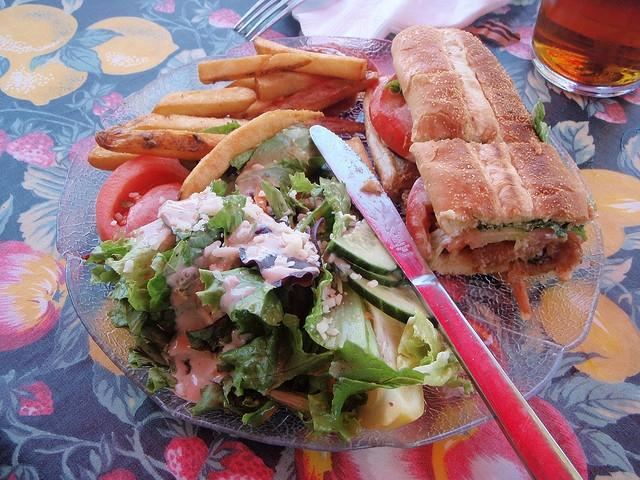cucumber: (330, 263, 436, 325), (328, 218, 398, 275), (336, 255, 404, 288)
lettuce: (218, 313, 334, 404), (329, 340, 430, 422), (296, 390, 362, 446), (106, 244, 156, 312), (477, 219, 588, 242), (208, 194, 247, 246), (83, 228, 132, 266), (147, 252, 173, 312), (261, 179, 293, 226), (530, 98, 552, 145), (288, 170, 324, 198), (198, 118, 241, 134), (322, 188, 340, 213), (383, 79, 403, 97)
tomato: (95, 154, 190, 241), (368, 73, 416, 164), (406, 176, 434, 262)
